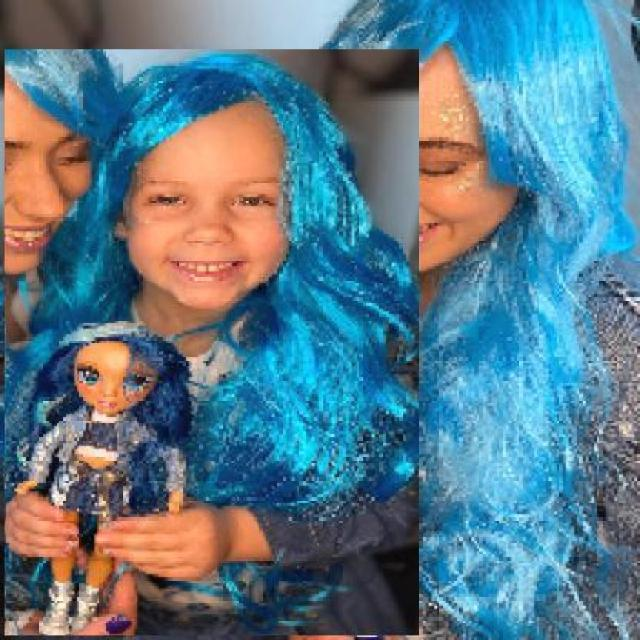child: (3, 49, 420, 637)
